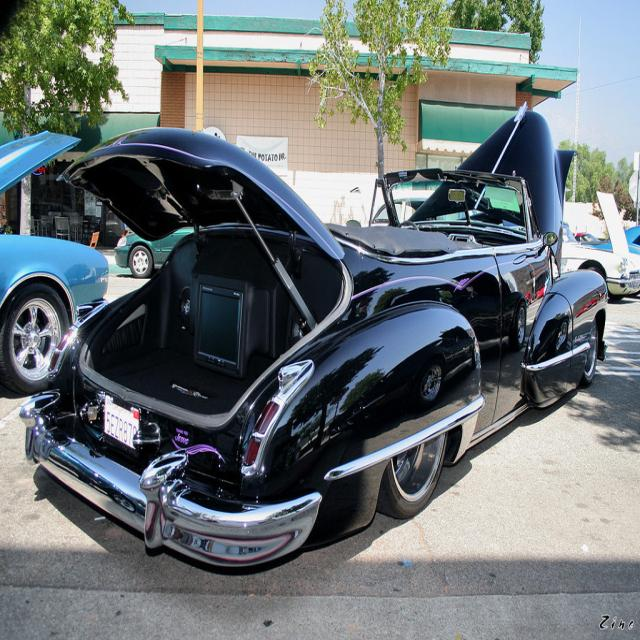car: (20, 95, 607, 515)
